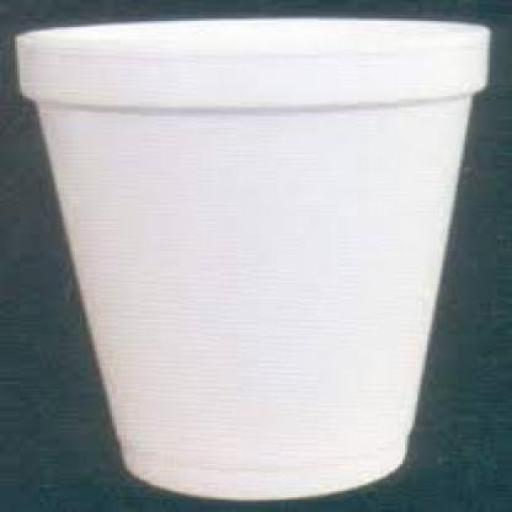paper: (12, 12, 485, 502)
